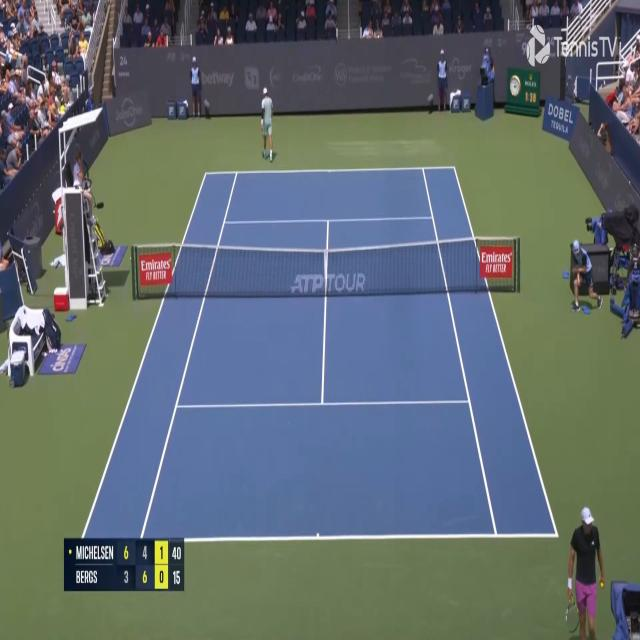tennis-player: (564, 502, 607, 640), (259, 84, 276, 163)
